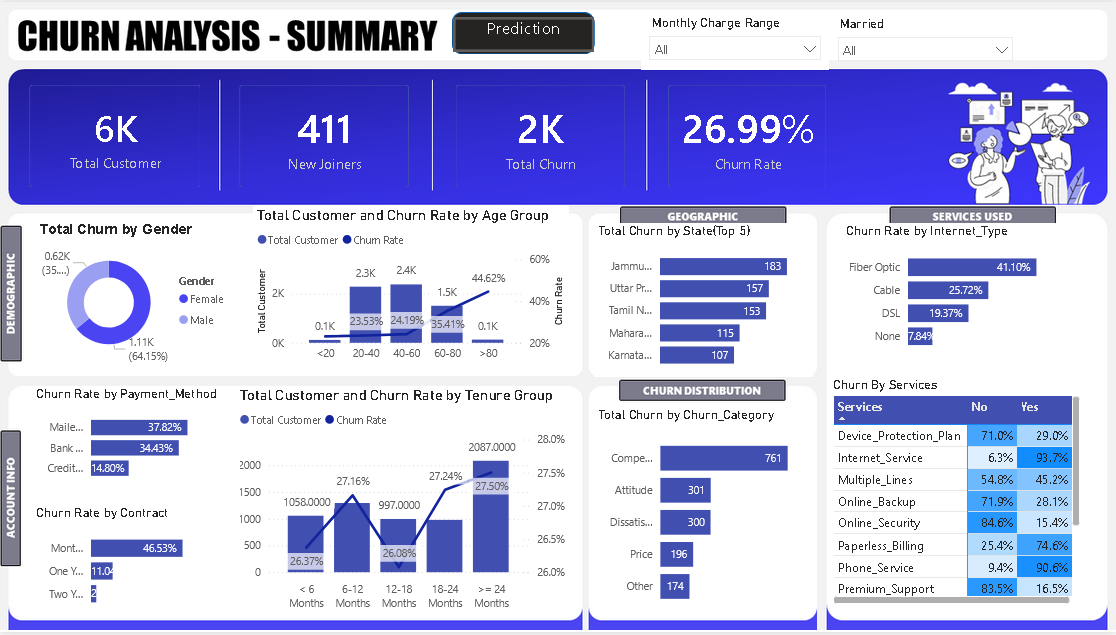

This screenshot's page, from the dashboard's own definition file:
{"tool":"powerbi","page":{"name":"Summary","canvas":[1280,720],"ordinal":0},"visuals":[{"type":"cardVisual","fields":{"Data":["tbl_Measure.Total Customer"]},"box":[18.6,77.1,230,152.9],"z":0},{"type":"cardVisual","fields":{"Data":["tbl_Measure.New Joiners"]},"box":[258.8,77.5,228.8,152.5],"z":1000},{"type":"cardVisual","fields":{"Data":["tbl_Measure.Total Churn"]},"box":[505,77.5,228.8,152.5],"z":2000},{"type":"cardVisual","fields":{"Data":["tbl_Measure.Churn Rate"]},"box":[748.6,77.1,215.7,152.9],"z":3000},{"type":"donutChart","fields":{"Y":["tbl_Measure.Total Churn"],"Category":["db_churn prod_churn.Gender"]},"box":[42.9,250,228.6,168.6],"z":4000},{"type":"lineStackedColumnComboChart","fields":{"Category":["mapping_AgeGrp.Age Group "],"Y":["tbl_Measure.Total Customer"],"Y2":["tbl_Measure.Churn Rate"]},"box":[291.2,232.5,361.2,186.2],"z":5000},{"type":"clusteredBarChart","fields":{"Category":["db_churn prod_churn.Payment_Method"],"Y":["tbl_Measure.Churn Rate"]},"box":[39,438.6,219.3,118.3],"z":6000},{"type":"clusteredBarChart","fields":{"Y":["tbl_Measure.Churn Rate"],"Category":["db_churn prod_churn.Contract"]},"box":[39,574.2,219.3,128.4],"z":7000},{"type":"lineStackedColumnComboChart","fields":{"Category":["mapping_TenureGrp.Tenure Group "],"Y":["tbl_Measure.Total Customer"],"Y2":["tbl_Measure.Churn Rate"]},"box":[271.2,438.8,381.2,263.8],"z":8000},{"type":"barChart","title":"Total Churn by State(Top 5)","fields":{"Category":["db_churn prod_churn.State"],"Y":["tbl_Measure.Total Churn"]},"box":[681.2,252.5,250,176.2],"z":9000},{"type":"barChart","fields":{"Y":["tbl_Measure.Total Churn"],"Category":["db_churn prod_churn.Churn_Category"]},"box":[681.4,462.9,250,240],"z":10000},{"type":"barChart","fields":{"Category":["db_churn prod_churn.Internet_Type"],"Y":["tbl_Measure.Churn Rate"]},"box":[964.3,252.9,277.1,155.7],"z":11000},{"type":"pivotTable","title":"Churn By Services","fields":{"Rows":["prod_Service.Services"],"Columns":["prod_Service.Status"],"Values":["Sum(prod_Service.Churn Status)"]},"box":[950,428.6,291.4,264.3],"z":12000},{"type":"slicer","title":"Monthly Charge Range","fields":{"Values":["db_churn prod_churn.Monthly Charge Status"]},"box":[734.3,10,215.7,67.1],"z":13000},{"type":"slicer","title":"Monthly Charge Range","fields":{"Values":["db_churn prod_churn.Married"]},"box":[950,11.4,220,65.7],"z":14000},{"type":"shape","box":[518.3,11.7,163.3,48.3],"z":14001},{"type":"textbox","box":[518.3,11.7,163.3,48.3],"z":14002},{"type":"actionButton","box":[520,16.7,161.7,40],"z":14003}]}

Visuals, with their boxes in screenshot pixels (x1, y1, x2, y2), scaled from the page's 1280x720 canvas onto the 1116x635 screenshot:
cardVisual - tbl_Measure.Total Customer: [16, 68, 217, 203]
cardVisual - tbl_Measure.New Joiners: [226, 68, 425, 203]
cardVisual - tbl_Measure.Total Churn: [440, 68, 640, 203]
cardVisual - tbl_Measure.Churn Rate: [653, 68, 841, 203]
donutChart - tbl_Measure.Total Churn x db_churn prod_churn.Gender: [37, 220, 237, 369]
lineStackedColumnComboChart - mapping_AgeGrp.Age Group  x tbl_Measure.Total Customer: [254, 205, 569, 369]
clusteredBarChart - db_churn prod_churn.Payment_Method x tbl_Measure.Churn Rate: [34, 387, 225, 491]
clusteredBarChart - tbl_Measure.Churn Rate x db_churn prod_churn.Contract: [34, 506, 225, 620]
lineStackedColumnComboChart - mapping_TenureGrp.Tenure Group  x tbl_Measure.Total Customer: [236, 387, 569, 620]
"Total Churn by State(Top 5)" barChart: [594, 223, 812, 378]
barChart - tbl_Measure.Total Churn x db_churn prod_churn.Churn_Category: [594, 408, 812, 620]
barChart - db_churn prod_churn.Internet_Type x tbl_Measure.Churn Rate: [841, 223, 1082, 360]
"Churn By Services" pivotTable: [828, 378, 1082, 611]
"Monthly Charge Range" slicer: [640, 9, 828, 68]
"Monthly Charge Range" slicer: [828, 10, 1020, 68]
shape: [452, 10, 594, 53]
textbox: [452, 10, 594, 53]
actionButton: [453, 15, 594, 50]
